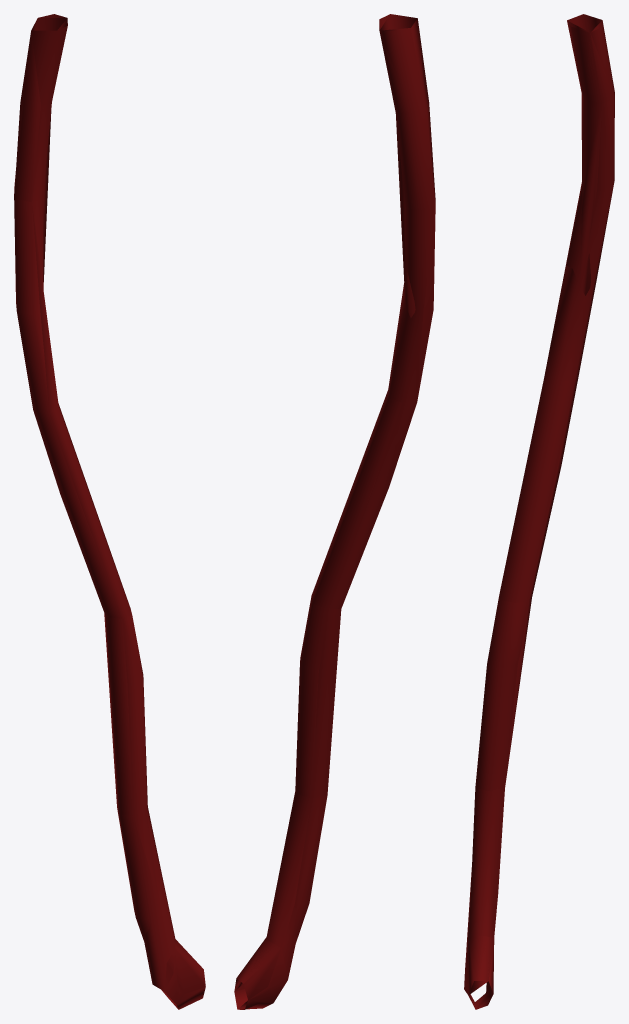
Rendered from L digitalis palmaris communis II.fbx.
3 views of the same model, side by side, from view 1: azimuth 30°, elevation 25°; view 2: azimuth 210°, elevation 25°; view 3: azimuth 270°, elevation 25° (orthographic). The views are drawn at different scales.
Parts seen in each view (by area): view 1: L digitalis palmaris communis II, L digitalis palmaris communis II low; view 2: L digitalis palmaris communis II, L digitalis palmaris communis II low; view 3: L digitalis palmaris communis II low, L digitalis palmaris communis II.
Boxes of the visible parts, left/top/right/bottom form: L digitalis palmaris communis II: left=14, top=14, right=205, bottom=1009; L digitalis palmaris communis II low: left=14, top=18, right=205, bottom=1009; L digitalis palmaris communis II: left=234, top=14, right=435, bottom=1009; L digitalis palmaris communis II low: left=234, top=14, right=435, bottom=1009; L digitalis palmaris communis II low: left=464, top=16, right=614, bottom=1009; L digitalis palmaris communis II: left=464, top=14, right=614, bottom=1009.
Bounding box in the file's own units: 1.34 × 9.16 × 1.32.
